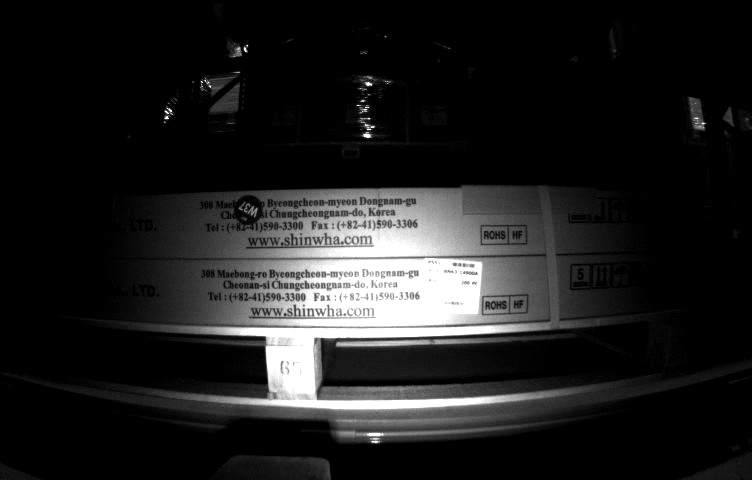True Barcode: (421, 255, 482, 314)
